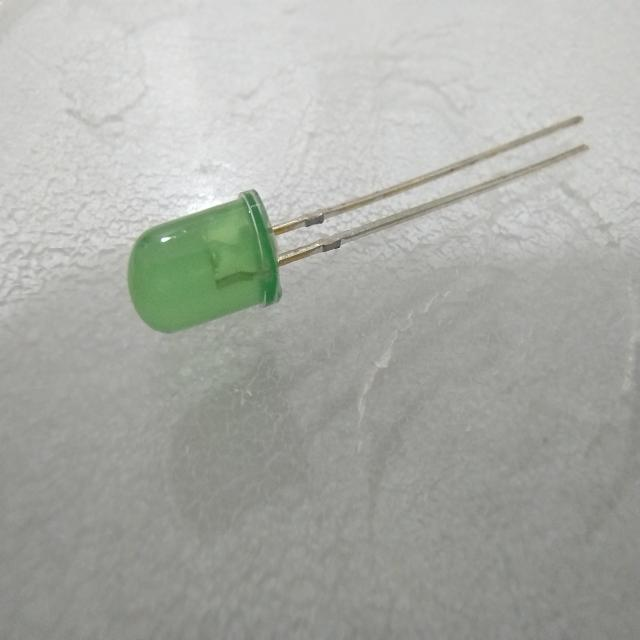green_led: (123, 179, 293, 336)
